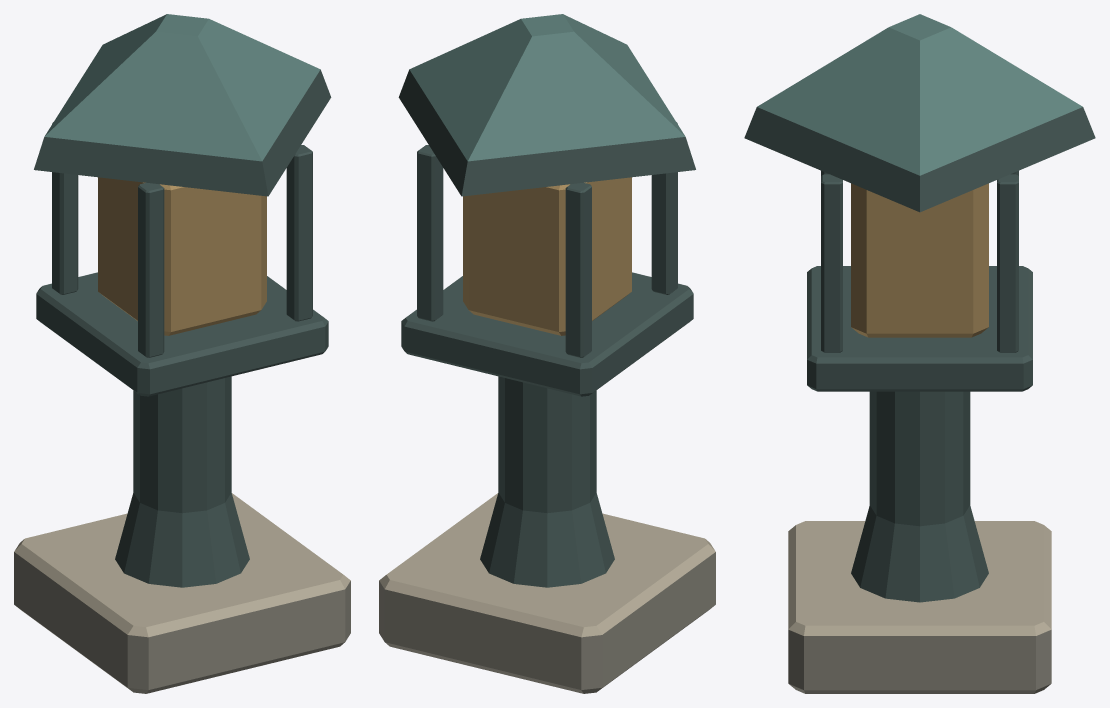
File: lantern.glb
3 views of the same model, side by side, from view 1: azimuth 30°, elevation 25°; view 2: azimuth 150°, elevation 25°; view 3: azimuth 270°, elevation 25° (orthographic). The views are drawn at different scales.
Visible parts, largest first — view 1: lantern__body; view 2: lantern__body; view 3: lantern__body.
Part boxes in pixels (box(x1,y1,x2,y2)): lantern__body: box(14, 14, 350, 693); lantern__body: box(379, 14, 715, 693); lantern__body: box(744, 14, 1095, 693).
Size of the model in its own units: 0.56 by 1.08 by 0.56.
